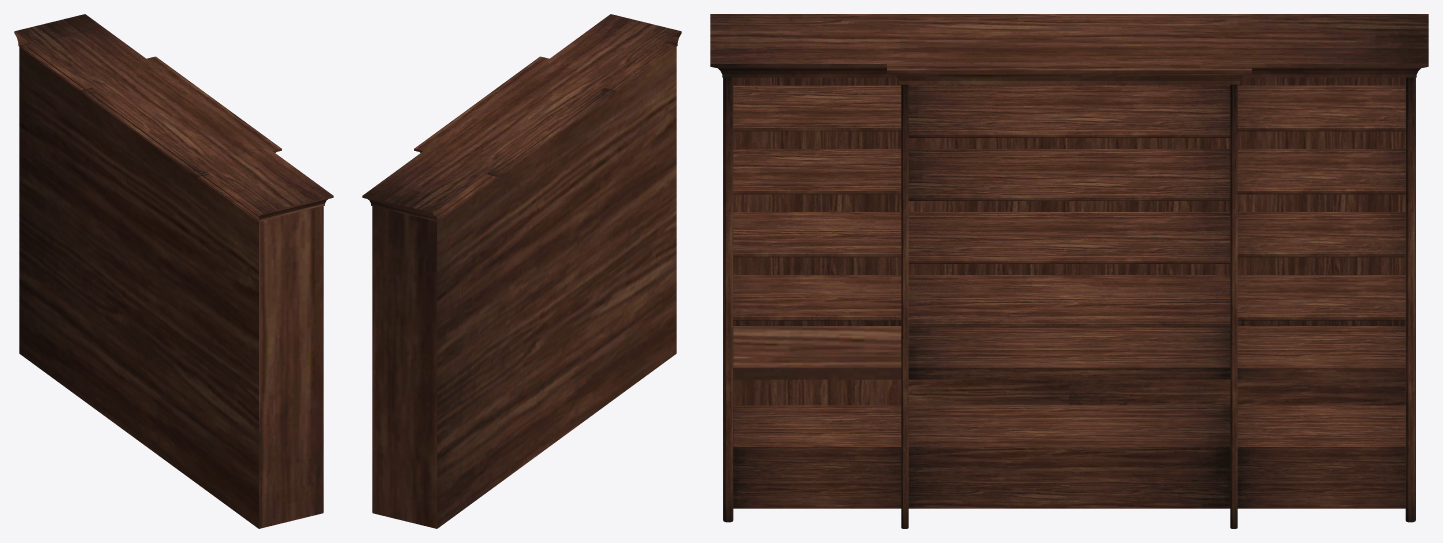
The model's file is OldBookshelf.fbx.
3 renders of one model, left to right at view 1: azimuth 30°, elevation 25°; view 2: azimuth 150°, elevation 25°; view 3: azimuth 270°, elevation 25°, orthographic. The views are drawn at different scales.
Parts seen in each view (by area): view 1: OldBookshelf; view 2: OldBookshelf; view 3: OldBookshelf.
Part boxes in pixels (left/top/right/bottom): OldBookshelf: left=14, top=14, right=333, bottom=528; OldBookshelf: left=362, top=14, right=681, bottom=528; OldBookshelf: left=710, top=14, right=1428, bottom=528.
Bounding box in the file's own units: 1.53 × 5.83 × 8.22.
